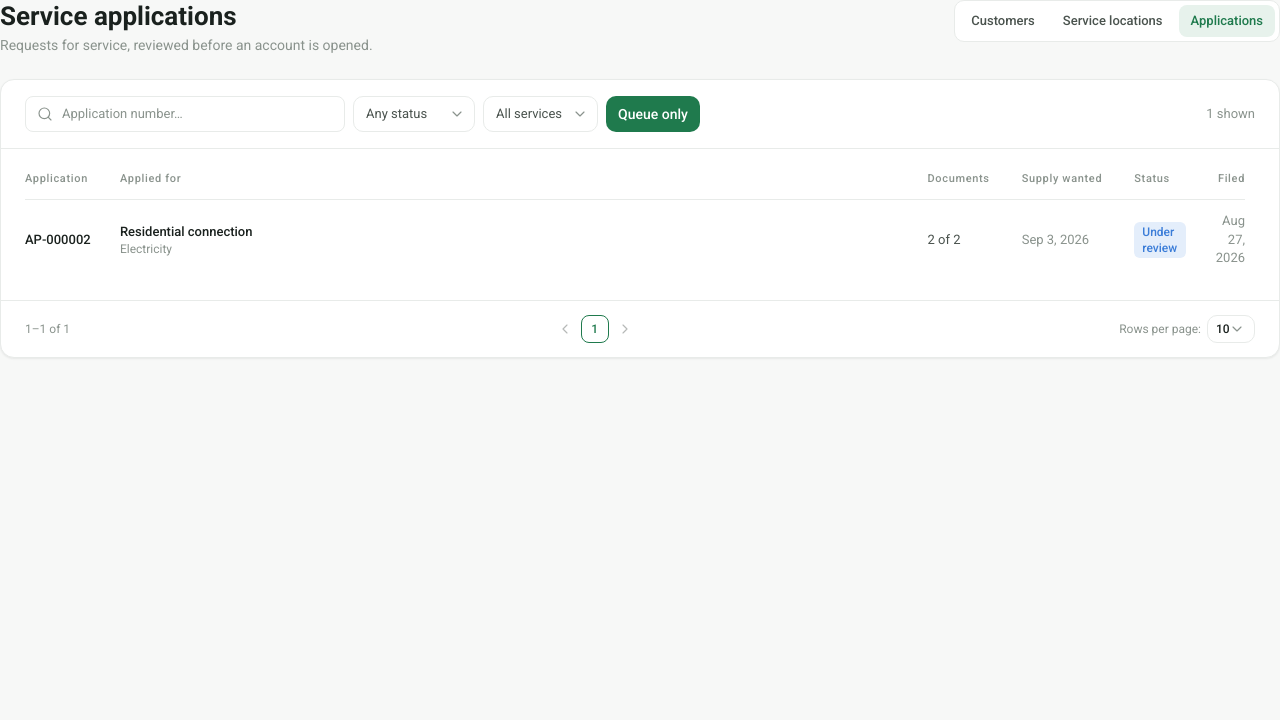
Test: the application queue › clears the reason when the outcome changes, because the lists do not overlap
Click the button "AP-000002" at (64, 240), box [25,231,104,249]
(page scrolled)
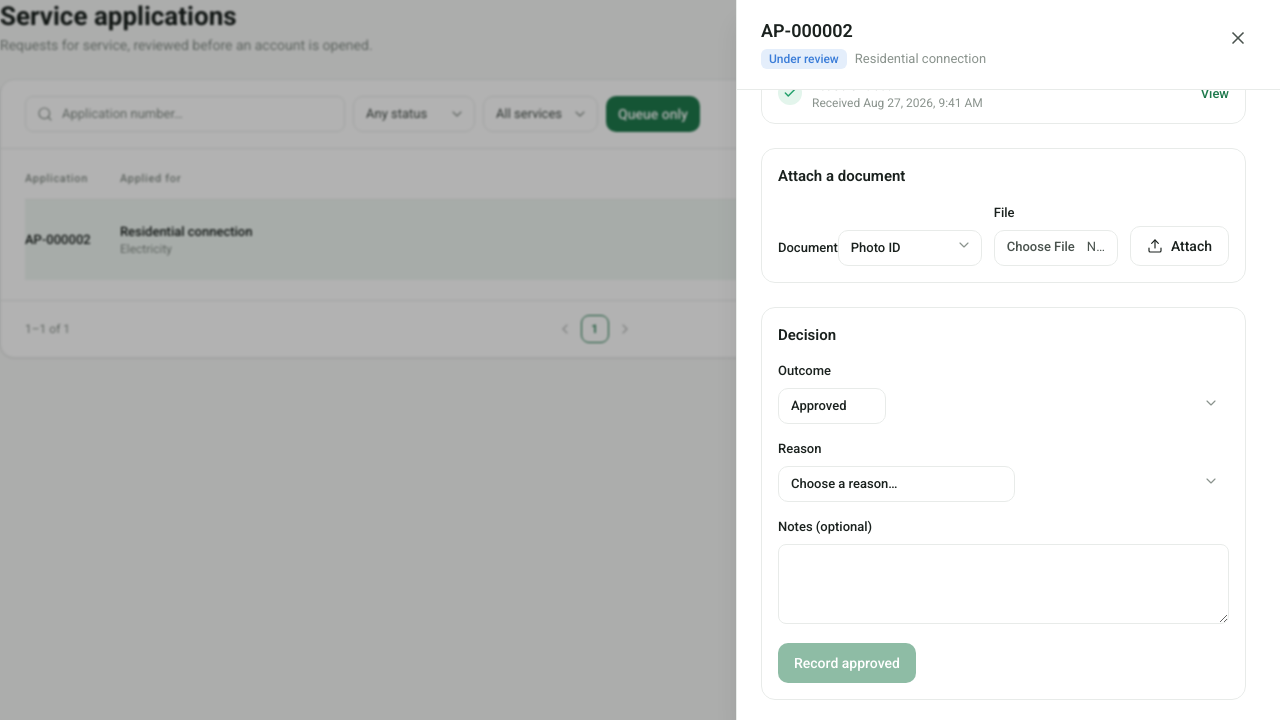
Select "Rejected" in the dropdown labelled "Outcome" at (832, 406), box [778,388,886,424]
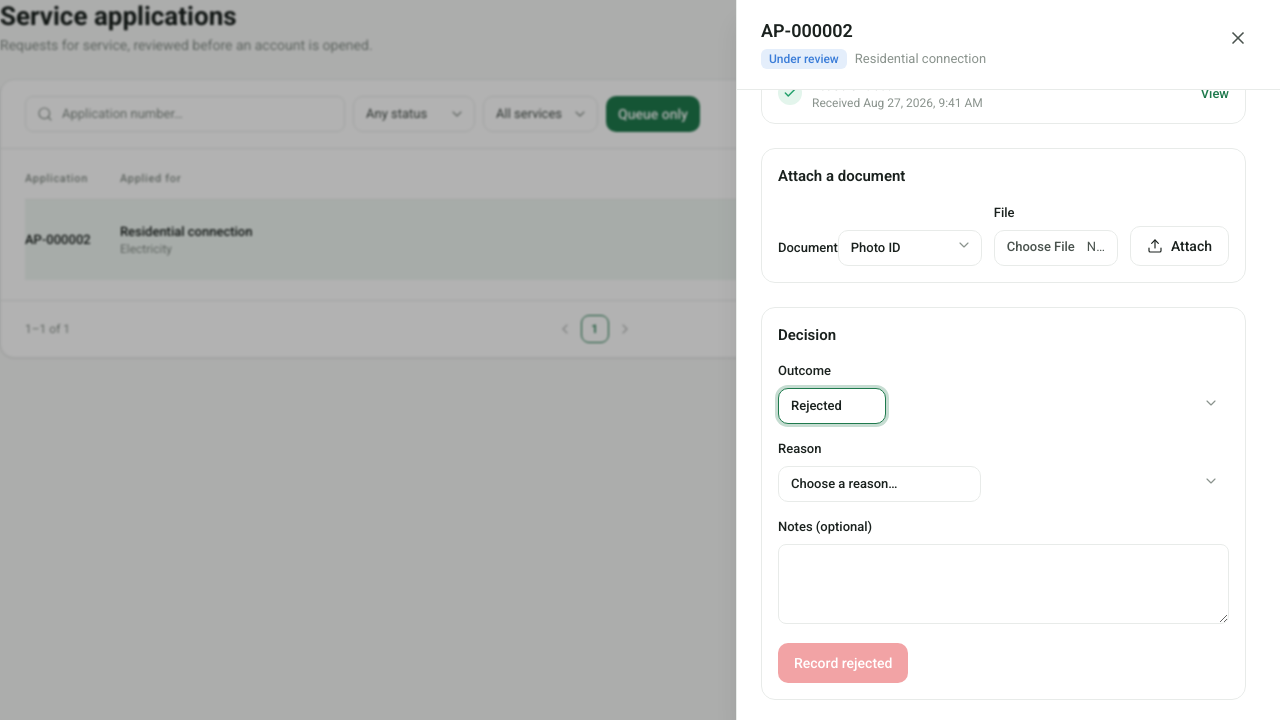
Select "Identity not verified" in the dropdown labelled "Reason" at (880, 484), box [778,466,981,502]
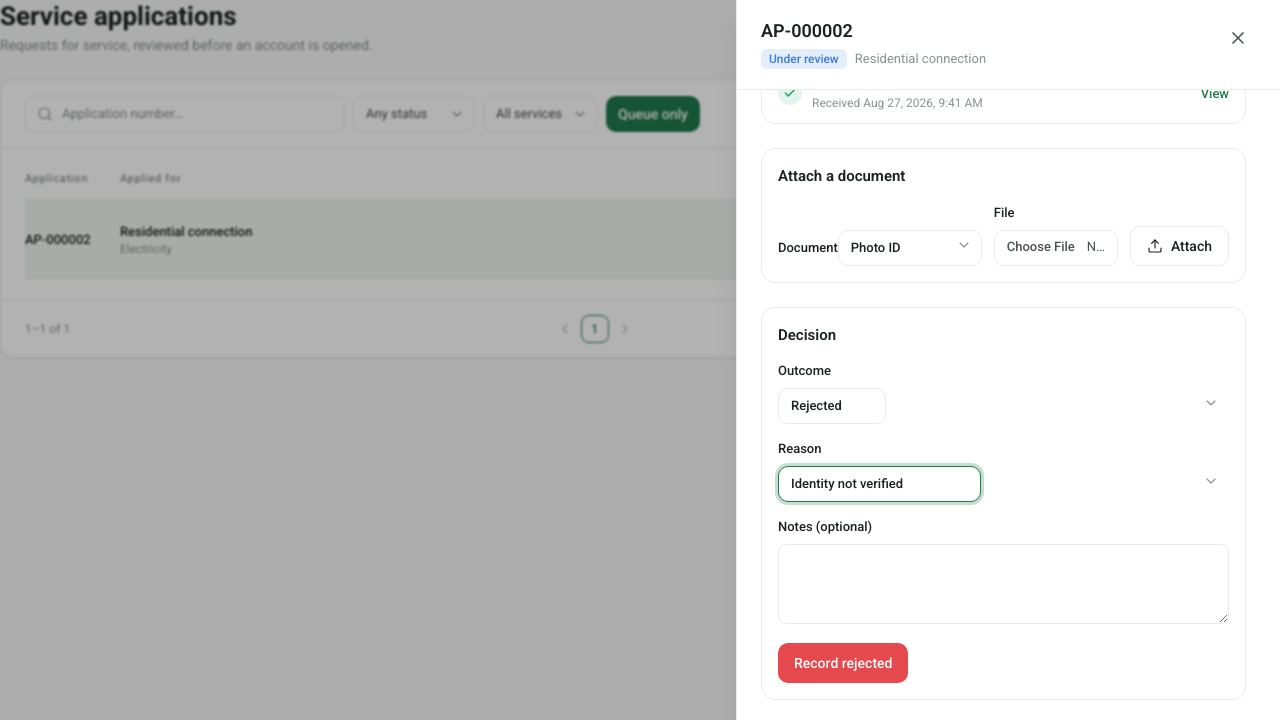
Select "Approved" in the dropdown labelled "Outcome" at (832, 406), box [778,388,886,424]
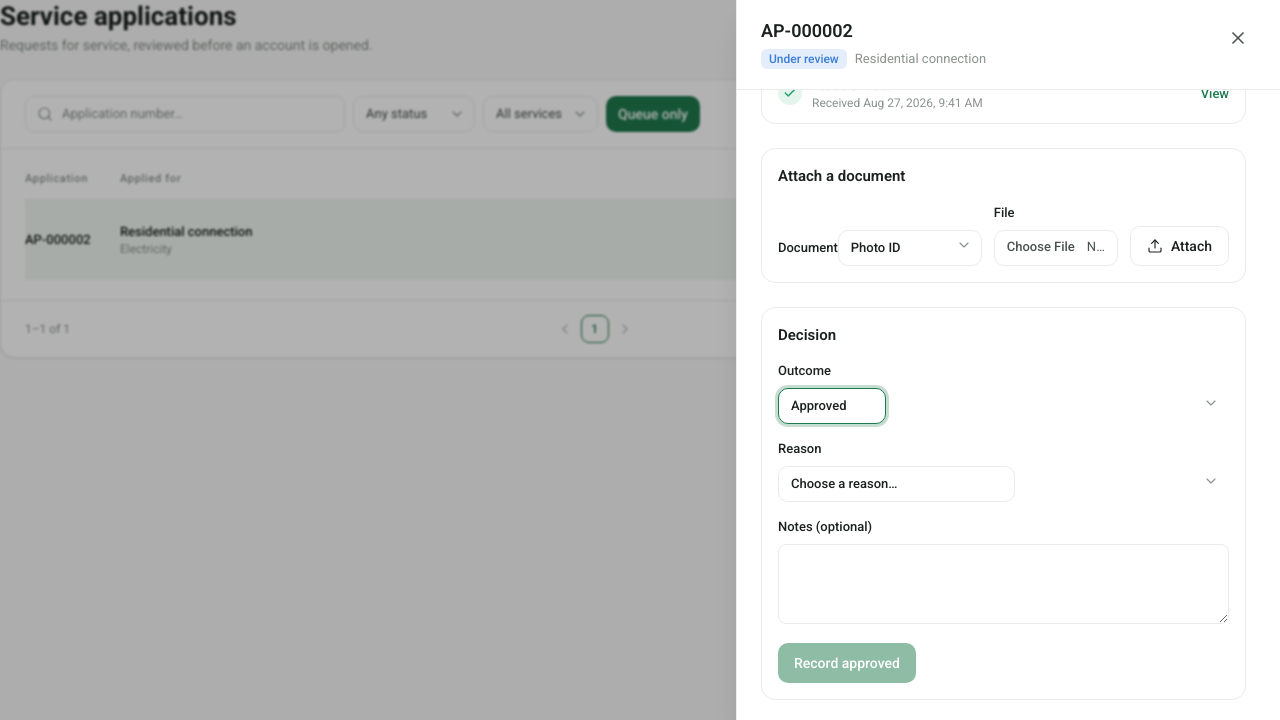
Check: the button "Record approved" is disabled, box [778,643,916,683]
